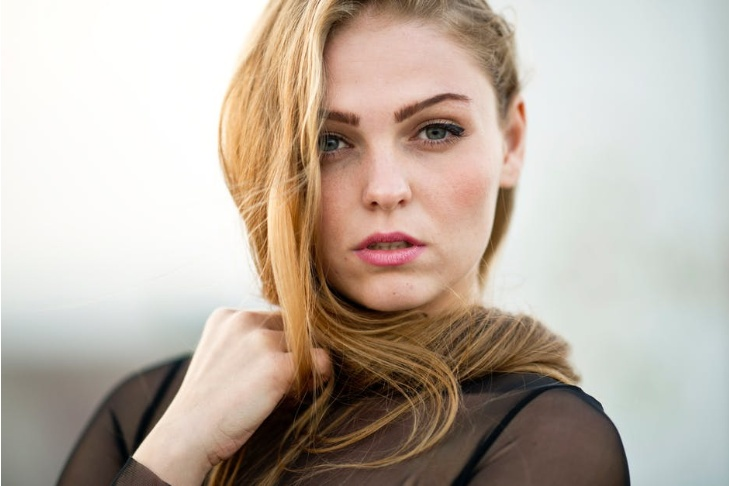face: (290, 11, 499, 311)
